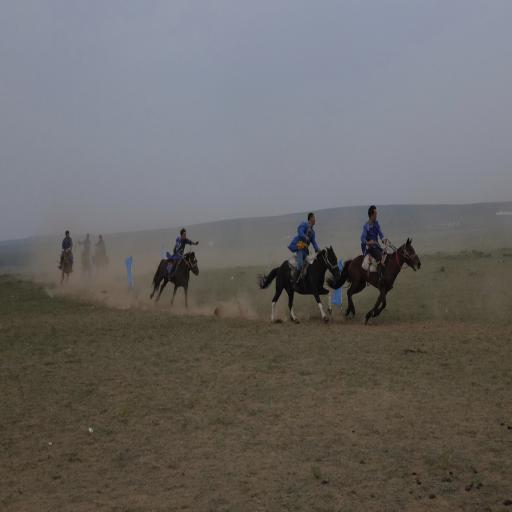horse: (328, 236, 420, 325), (258, 242, 343, 323), (148, 252, 200, 309), (59, 249, 74, 290)
